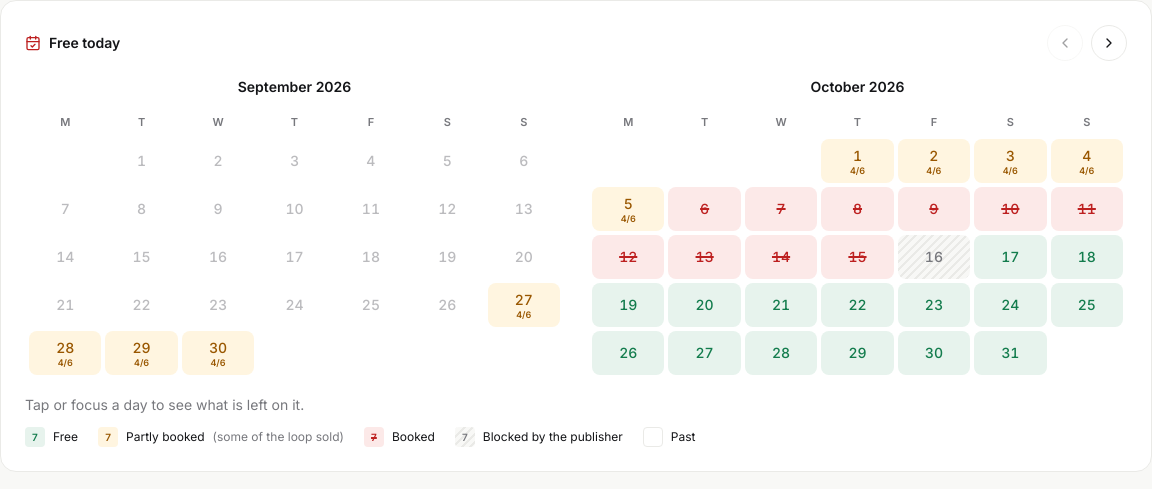
Test: AV-1: the availability calendar › colours each day with its state in words, and has a legend
This screenshot has width=1152, height=489.
Check: the element with test id "availability-next-free" reads "Free today", box [49,34,120,51]
Check: the text "September 2026" is shown, box [238,78,351,95]
Click the button "28 4/6" at coordinates (65, 352), box [29,330,101,374]
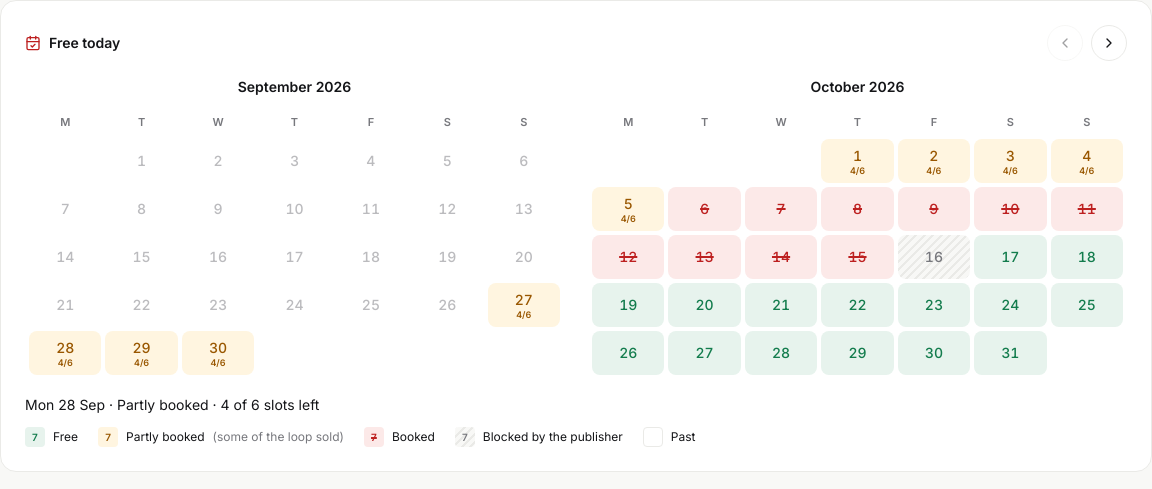
Check: the text with test id "availability-detail" reads "Mon 28 Sep · Partly booked · 4 of 6 slots left", box [25,396,319,412]
